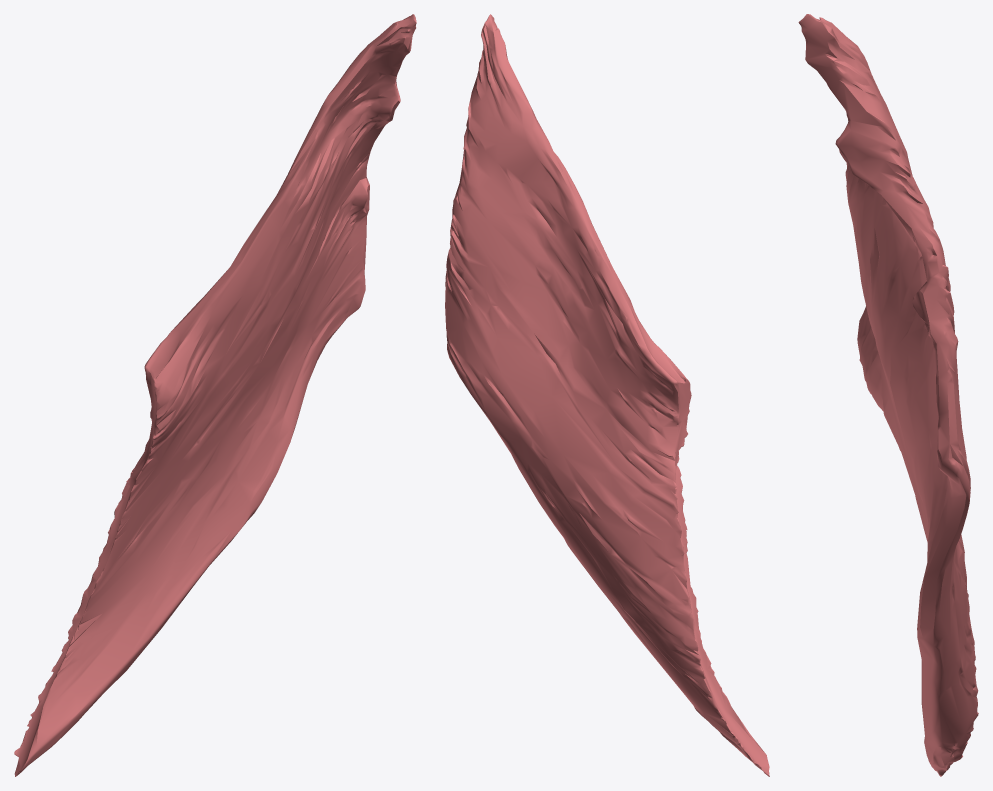
3 renders of one model, left to right at view 1: azimuth 30°, elevation 25°; view 2: azimuth 150°, elevation 25°; view 3: azimuth 270°, elevation 25°, orthographic. The views are drawn at different scales.
Visible parts, largest first — view 1: FJ1536; view 2: FJ1536; view 3: FJ1536.
Boxes of the visible parts, x1,y1,x2,y2 form: FJ1536: [14, 14, 416, 776]; FJ1536: [445, 14, 769, 776]; FJ1536: [798, 14, 978, 776].
Size of the model in its own units: 0.0898 by 0.1725 by 0.028.
